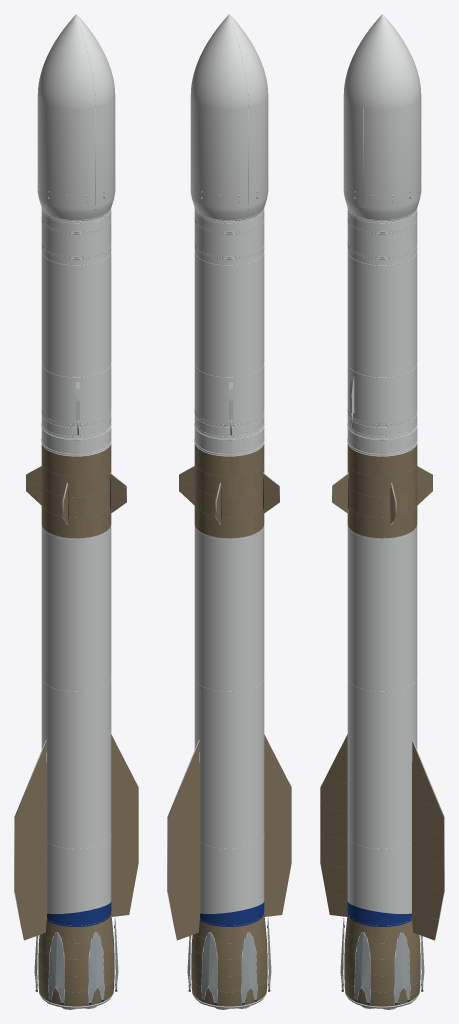
The model's file is new-glenn-9x4.glb.
The picture shows the model from 3 angles, left to right: view 1: azimuth 30°, elevation 25°; view 2: azimuth 210°, elevation 25°; view 3: azimuth 330°, elevation 25°; orthographic projection.
Parts seen in each view (by area): view 1: booster__NG clean warm white exterior, upper__NG clean warm white exterior, fairing-left__NG clean warm white exterior, recovery__9x4 clean thermal panel 00, booster__9x4 clean thermal panel 00, fairing-right__NG clean warm white exterior, recovery__9x4 visible satin metal, booster__9x4 clean thermal panel 02, booster__9x4 clean thermal panel 03, booster__9x4 clean thermal panel 01, booster__9x4 clean thermal panel 04, upper__NG light interface metal (+5 smaller); view 2: booster__NG clean warm white exterior, upper__NG clean warm white exterior, fairing-right__NG clean warm white exterior, recovery__9x4 clean thermal panel 00, booster__9x4 clean thermal panel 00, fairing-left__NG clean warm white exterior, recovery__9x4 visible satin metal, booster__9x4 clean thermal panel 04, booster__9x4 clean thermal panel 01, booster__9x4 clean thermal panel 03, booster__9x4 clean thermal panel 02, upper__NG light interface metal (+4 smaller); view 3: booster__NG clean warm white exterior, upper__NG clean warm white exterior, fairing-right__NG clean warm white exterior, recovery__9x4 clean thermal panel 00, booster__9x4 clean thermal panel 00, fairing-left__NG clean warm white exterior, recovery__9x4 visible satin metal, booster__9x4 clean thermal panel 01, booster__9x4 clean thermal panel 02, booster__9x4 clean thermal panel 04, booster__9x4 clean thermal panel 03, upper__NG light interface metal (+4 smaller).
Boxes of the visible parts, bbox=[...] form: booster__NG clean warm white exterior: bbox=[41, 428, 111, 913]; upper__NG clean warm white exterior: bbox=[41, 210, 111, 438]; fairing-left__NG clean warm white exterior: bbox=[37, 14, 95, 219]; recovery__9x4 clean thermal panel 00: bbox=[14, 735, 138, 940]; booster__9x4 clean thermal panel 00: bbox=[38, 447, 114, 1006]; fairing-right__NG clean warm white exterior: bbox=[76, 14, 115, 217]; recovery__9x4 visible satin metal: bbox=[34, 918, 118, 1003]; booster__9x4 clean thermal panel 02: bbox=[38, 450, 114, 1005]; booster__9x4 clean thermal panel 03: bbox=[39, 444, 114, 1004]; booster__9x4 clean thermal panel 01: bbox=[38, 453, 114, 1006]; booster__9x4 clean thermal panel 04: bbox=[38, 444, 113, 1005]; upper__NG light interface metal: bbox=[41, 209, 111, 436]; booster__NG clean warm white exterior: bbox=[194, 428, 264, 913]; upper__NG clean warm white exterior: bbox=[194, 210, 264, 438]; fairing-right__NG clean warm white exterior: bbox=[190, 14, 248, 219]; recovery__9x4 clean thermal panel 00: bbox=[167, 735, 291, 940]; booster__9x4 clean thermal panel 00: bbox=[191, 444, 267, 1006]; fairing-left__NG clean warm white exterior: bbox=[229, 14, 268, 217]; recovery__9x4 visible satin metal: bbox=[187, 918, 271, 1003]; booster__9x4 clean thermal panel 04: bbox=[191, 453, 267, 1006]; booster__9x4 clean thermal panel 01: bbox=[191, 446, 267, 1004]; booster__9x4 clean thermal panel 03: bbox=[191, 450, 267, 1006]; booster__9x4 clean thermal panel 02: bbox=[191, 444, 266, 1005]; upper__NG light interface metal: bbox=[194, 209, 264, 436]; booster__NG clean warm white exterior: bbox=[347, 428, 417, 913]; upper__NG clean warm white exterior: bbox=[347, 210, 417, 438]; fairing-right__NG clean warm white exterior: bbox=[363, 14, 421, 219]; recovery__9x4 clean thermal panel 00: bbox=[320, 735, 444, 940]; booster__9x4 clean thermal panel 00: bbox=[344, 447, 420, 1006]; fairing-left__NG clean warm white exterior: bbox=[343, 14, 382, 217]; recovery__9x4 visible satin metal: bbox=[340, 918, 424, 1003]; booster__9x4 clean thermal panel 01: bbox=[344, 450, 420, 1005]; booster__9x4 clean thermal panel 02: bbox=[345, 444, 420, 1004]; booster__9x4 clean thermal panel 04: bbox=[344, 444, 419, 1006]; booster__9x4 clean thermal panel 03: bbox=[344, 446, 420, 1005]; upper__NG light interface metal: bbox=[347, 209, 417, 436].
Bounding box in the file's own units: 16.18 × 122 × 9.51.
